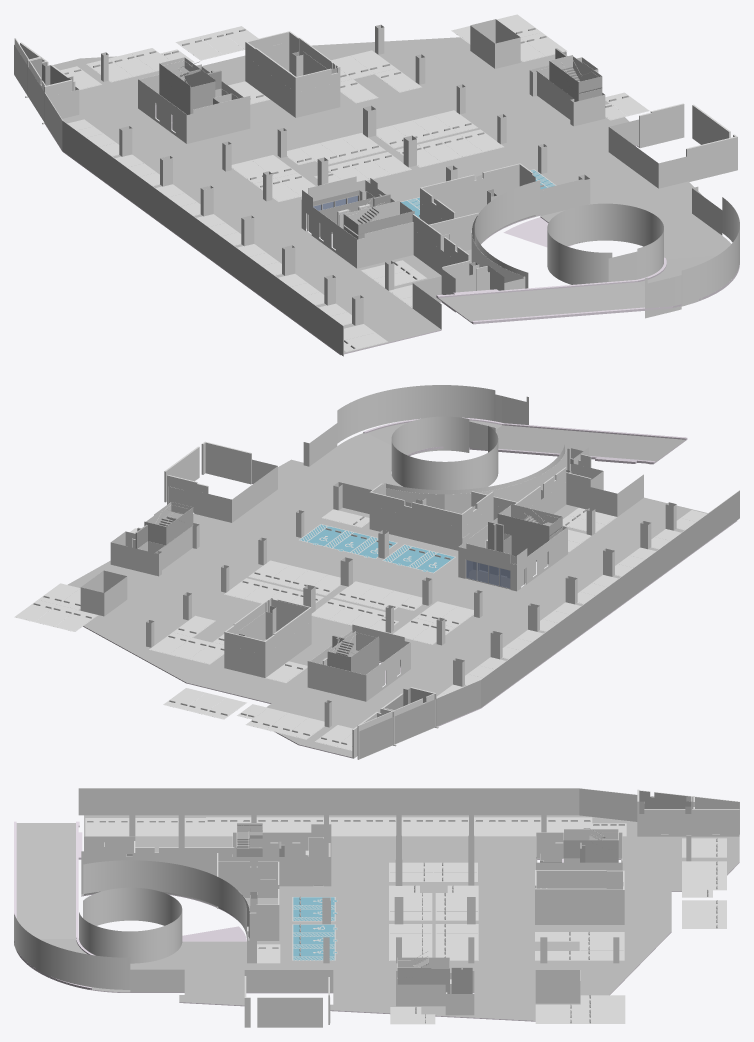
The picture shows the model from 3 angles, top to bottom: view 1: azimuth 30°, elevation 25°; view 2: azimuth 150°, elevation 25°; view 3: azimuth 270°, elevation 25°; orthographic projection. The views are drawn at different scales.
Parts seen in each view (by area): view 1: A6-B2F; view 2: A6-B2F; view 3: A6-B2F.
Boxes of the visible parts, <box> form: A6-B2F: <box>14,14,739,356</box>; A6-B2F: <box>14,385,739,759</box>; A6-B2F: <box>14,788,739,1027</box>.
Size of the model in its own units: 58.1 by 5.99 by 84.15.
